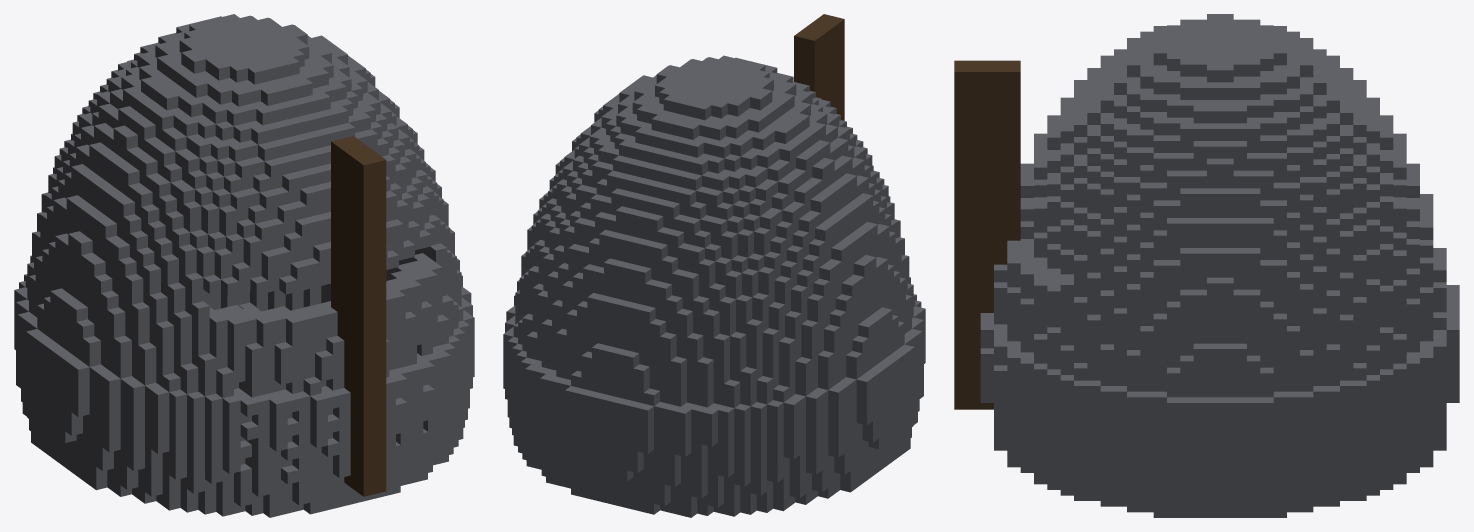
File: iron_bascinet.glb
3 renders of one model, left to right at view 1: azimuth 30°, elevation 25°; view 2: azimuth 150°, elevation 25°; view 3: azimuth 270°, elevation 25°, orthographic. The views are drawn at different scales.
Visible parts, largest first — view 1: iron_bascinet; view 2: iron_bascinet; view 3: iron_bascinet.
Part boxes in pixels (<box>): iron_bascinet: <box>14,14,474,517</box>; iron_bascinet: <box>503,14,925,517</box>; iron_bascinet: <box>954,14,1459,517</box>.
Bounding box in the file's own units: 0.408 × 0.384 × 0.456.
